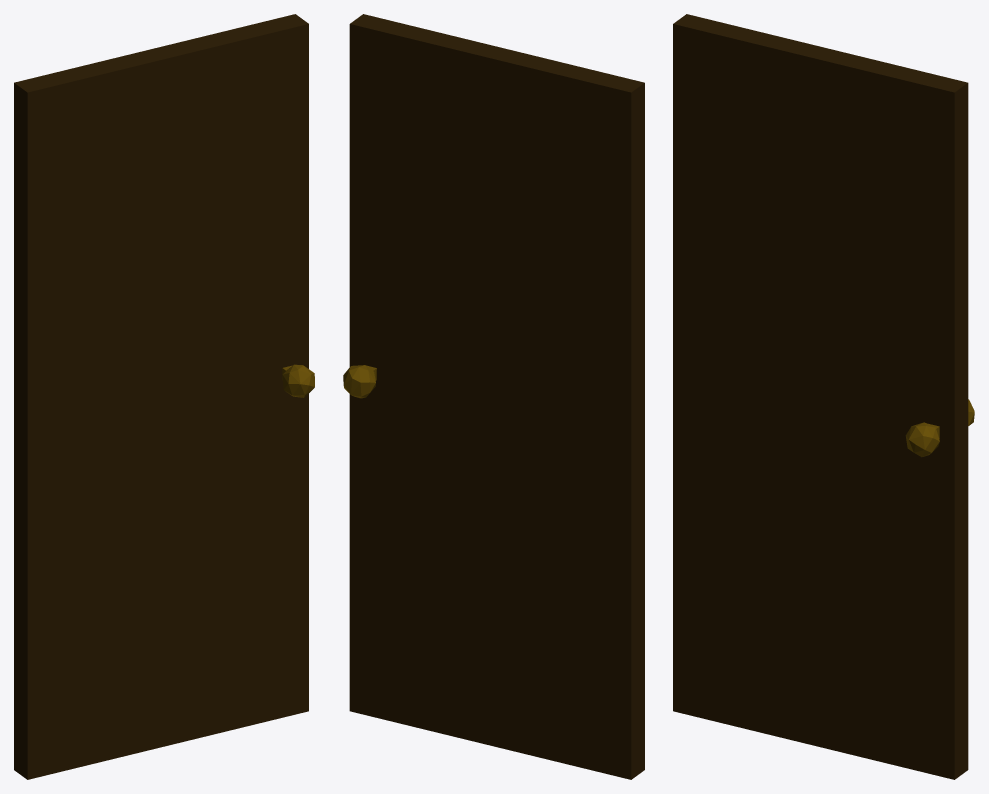
The model's file is Dark Wood Door.glb.
3 views of the same model, side by side, from view 1: azimuth 30°, elevation 25°; view 2: azimuth 150°, elevation 25°; view 3: azimuth 330°, elevation 25° (orthographic).
Parts seen in each view (by area): view 1: Door, Handle; view 2: Door, Handle; view 3: Door, Handle.
Part boxes in pixels (<box>): Door: <box>14,14,308,779</box>; Handle: <box>282,364,314,397</box>; Door: <box>349,14,644,779</box>; Handle: <box>343,365,376,398</box>; Door: <box>673,14,968,779</box>; Handle: <box>905,399,974,457</box>.
Size of the model in its own units: 0.9144 by 2.13 by 0.2939.
